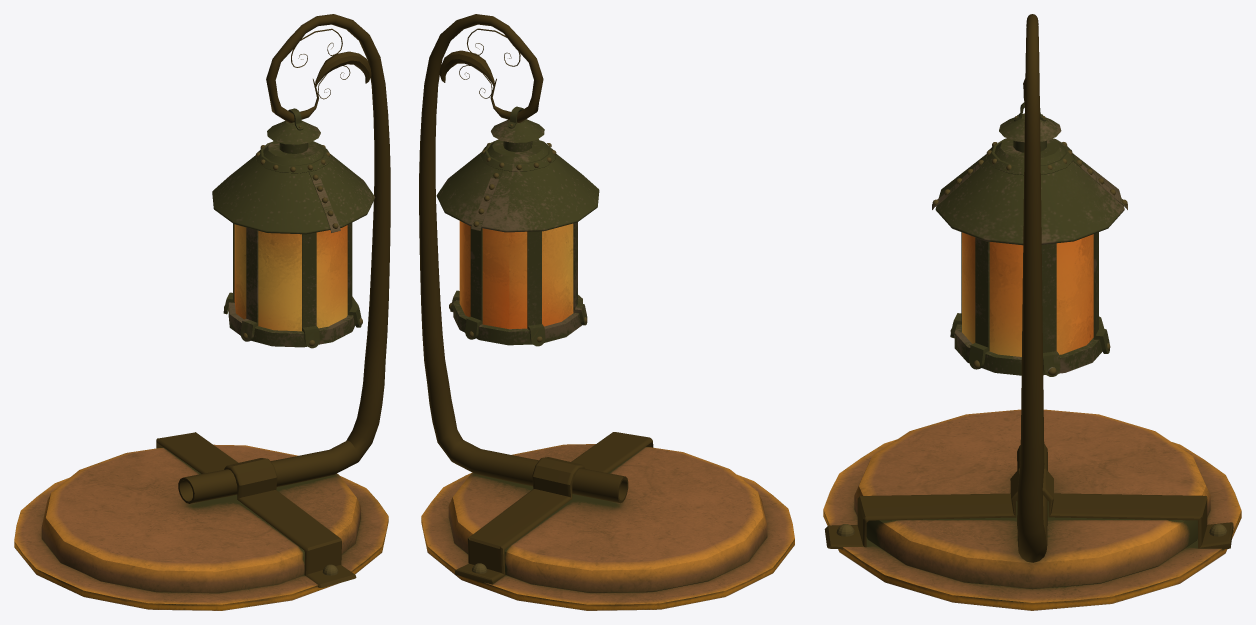
File: lamp.obj
3 views of the same model, side by side, from view 1: azimuth 30°, elevation 25°; view 2: azimuth 150°, elevation 25°; view 3: azimuth 270°, elevation 25° (orthographic). The views are drawn at different scales.
Parts seen in each view (by area): view 1: pasted__polySurface47_standardSurface2; view 2: pasted__polySurface47_standardSurface2; view 3: pasted__polySurface47_standardSurface2.
Boxes of the visible parts, box(x1,y1,x2,y2) form: pasted__polySurface47_standardSurface2: box(14, 14, 390, 610); pasted__polySurface47_standardSurface2: box(419, 14, 794, 610); pasted__polySurface47_standardSurface2: box(823, 14, 1241, 610).
Bounding box in the file's own units: 2.1 × 2.8 × 1.86.
